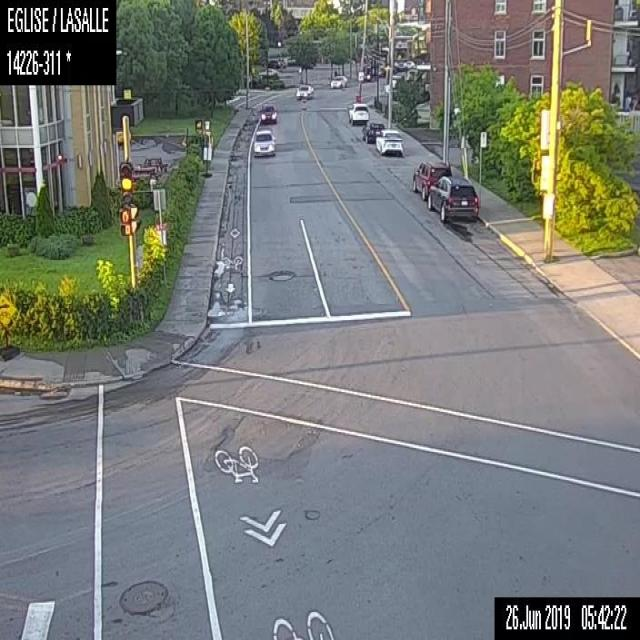vehicle: (427, 175, 480, 221), (411, 156, 451, 200), (375, 128, 403, 155), (252, 128, 275, 156), (360, 120, 384, 142), (347, 102, 369, 124), (294, 83, 316, 100), (259, 104, 276, 123), (329, 73, 346, 87)
